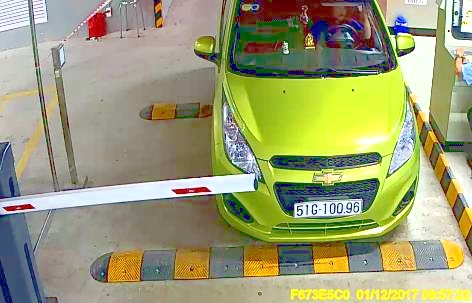plate: (292, 196, 362, 216)
